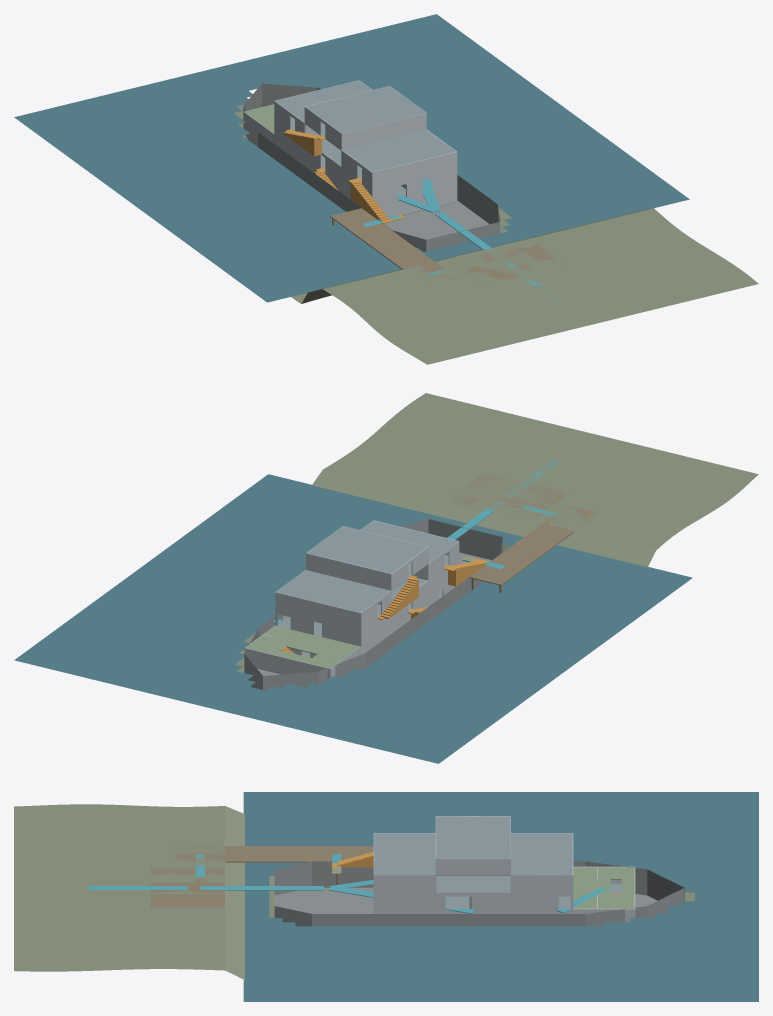
The model's file is open-circulation.glb.
3 views of the same model, one above another, from view 1: azimuth 30°, elevation 25°; view 2: azimuth 150°, elevation 25°; view 3: azimuth 270°, elevation 25° (orthographic).
Parts seen in each view (by area): view 1: WATER PLACEHOLDER / layers and transparency pending, Authored quay terrain, Pointed retired vessel hull / empty interior, Ceiling cap bridge, Ceiling cap crew, Wall crew S, Wall bridge S, Ceiling cap net, Floor exterior deck portpier 25, Flat route shell Wall engine S, Floor exterior deck portpier 21; view 2: WATER PLACEHOLDER / layers and transparency pending, Authored quay terrain, Pointed retired vessel hull / empty interior, Ceiling cap bridge, Ceiling cap net, Wall bridge N, Wall net N, Ceiling cap crew, Wall pump N, Floor exterior deck portpier 25, Floor exterior deck portpier 21, Flat route shell Wall processing N (+1 smaller); view 3: WATER PLACEHOLDER / layers and transparency pending, Authored quay terrain, Pointed retired vessel hull / empty interior, Ceiling cap bridge, Ceiling cap net, Ceiling cap crew, Flat route shell Wall processing E, Wall bridge E, Ceiling cap processing, Wall net E, Wall mess E, Wall crew E (+11 smaller).
Part boxes in pixels (left/top/right/bottom): WATER PLACEHOLDER / layers and transparency pending: left=14, top=14, right=689, bottom=302; Authored quay terrain: left=234, top=104, right=758, bottom=364; Pointed retired vessel hull / empty interior: left=243, top=83, right=500, bottom=251; Ceiling cap bridge: left=306, top=86, right=425, bottom=133; Ceiling cap crew: left=342, top=130, right=455, bottom=171; Wall crew S: left=372, top=151, right=456, bottom=188; Wall bridge S: left=341, top=113, right=426, bottom=149; Ceiling cap net: left=275, top=80, right=371, bottom=122; Floor exterior deck portpier 25: left=366, top=223, right=444, bottom=272; Flat route shell Wall engine S: left=374, top=185, right=456, bottom=217; Floor exterior deck portpier 21: left=352, top=227, right=427, bottom=272; WATER PLACEHOLDER / layers and transparency pending: left=14, top=474, right=692, bottom=763; Authored quay terrain: left=235, top=393, right=758, bottom=686; Pointed retired vessel hull / empty interior: left=244, top=519, right=502, bottom=690; Ceiling cap bridge: left=306, top=526, right=427, bottom=573; Ceiling cap net: left=276, top=570, right=390, bottom=612; Wall bridge N: left=306, top=553, right=391, bottom=590; Wall net N: left=275, top=592, right=360, bottom=629; Ceiling cap crew: left=361, top=520, right=458, bottom=562; Wall pump N: left=245, top=648, right=329, bottom=678; Floor exterior deck portpier 25: left=490, top=516, right=558, bottom=565; Floor exterior deck portpier 21: left=506, top=519, right=588, bottom=568; Flat route shell Wall processing N: left=322, top=620, right=360, bottom=646; WATER PLACEHOLDER / layers and transparency pending: left=243, top=792, right=758, bottom=1001; Authored quay terrain: left=14, top=804, right=694, bottom=979; Pointed retired vessel hull / empty interior: left=274, top=861, right=684, bottom=926; Ceiling cap bridge: left=436, top=816, right=510, bottom=858; Ceiling cap net: left=511, top=833, right=572, bottom=875; Ceiling cap crew: left=374, top=833, right=435, bottom=875; Flat route shell Wall processing E: left=436, top=892, right=572, bottom=909; Wall bridge E: left=436, top=858, right=510, bottom=875; Ceiling cap processing: left=436, top=876, right=510, bottom=891; Wall net E: left=510, top=875, right=572, bottom=892; Wall mess E: left=374, top=892, right=435, bottom=909; Wall crew E: left=374, top=875, right=435, bottom=892.
Bounding box in the file's own units: 80 × 14.64 × 120.
